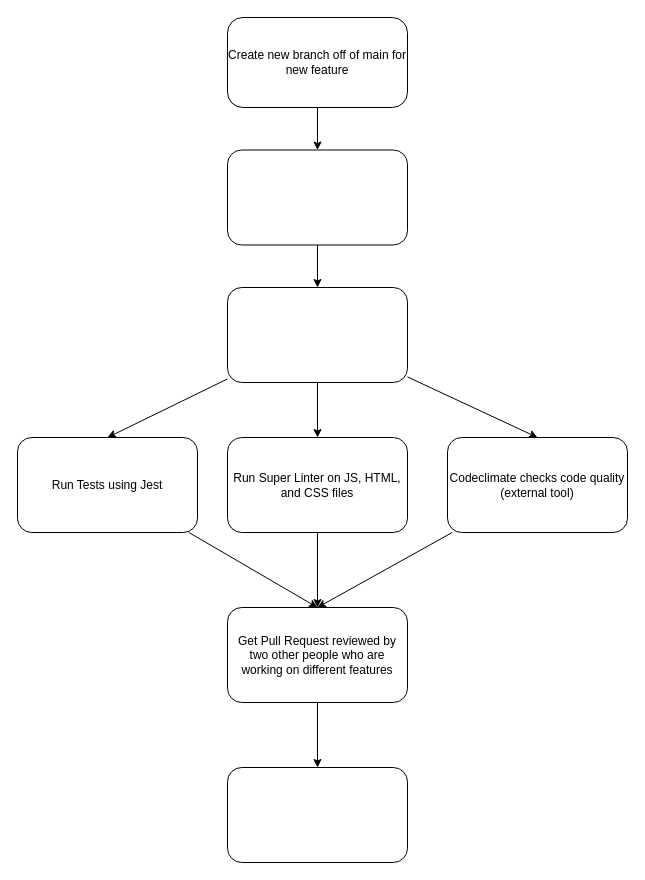
Image size: 645x880. Some labels were removed from this diagram. Here are the shapes that lost their labels. From the top down, the centre of each, then its label:
At (x=317, y=197): "Work on feature and commit to corresponding branch".
At (x=317, y=334): "Make Pull Request to main when feature is ready for review".
At (x=317, y=814): "Merge Pull Request".
